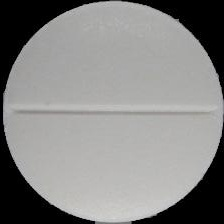10544-532: (0, 0, 224, 224)
